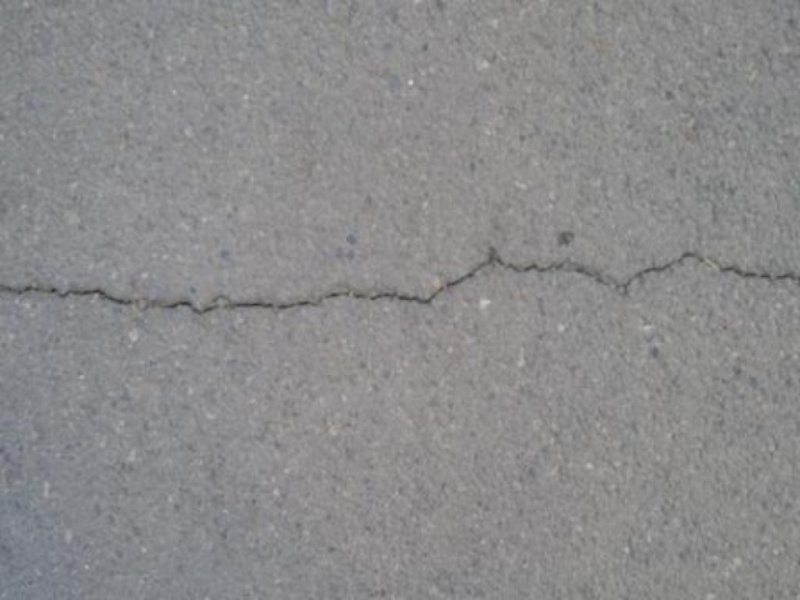crack: (11, 219, 800, 374)
